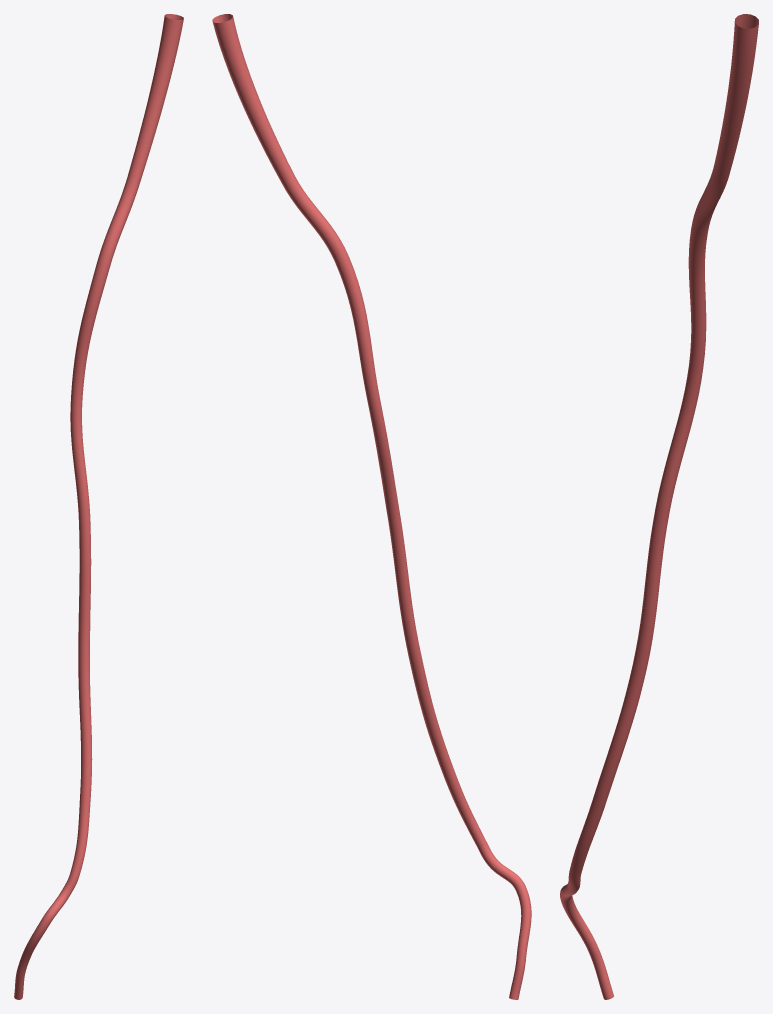
The model's file is Radial_artery.r_BezierCurve.201.glb.
The picture shows the model from 3 angles, left to right: view 1: azimuth 30°, elevation 25°; view 2: azimuth 150°, elevation 25°; view 3: azimuth 270°, elevation 25°; orthographic projection. The views are drawn at different scales.
Parts seen in each view (by area): view 1: Radial_artery.r_BezierCurve.201; view 2: Radial_artery.r_BezierCurve.201; view 3: Radial_artery.r_BezierCurve.201.
Boxes of the visible parts, x1,y1,x2,y2 form: Radial_artery.r_BezierCurve.201: (14,14,183,999); Radial_artery.r_BezierCurve.201: (212,14,531,999); Radial_artery.r_BezierCurve.201: (560,14,758,999).
Size of the model in its own units: 0.0652 by 0.2466 by 0.0401.
